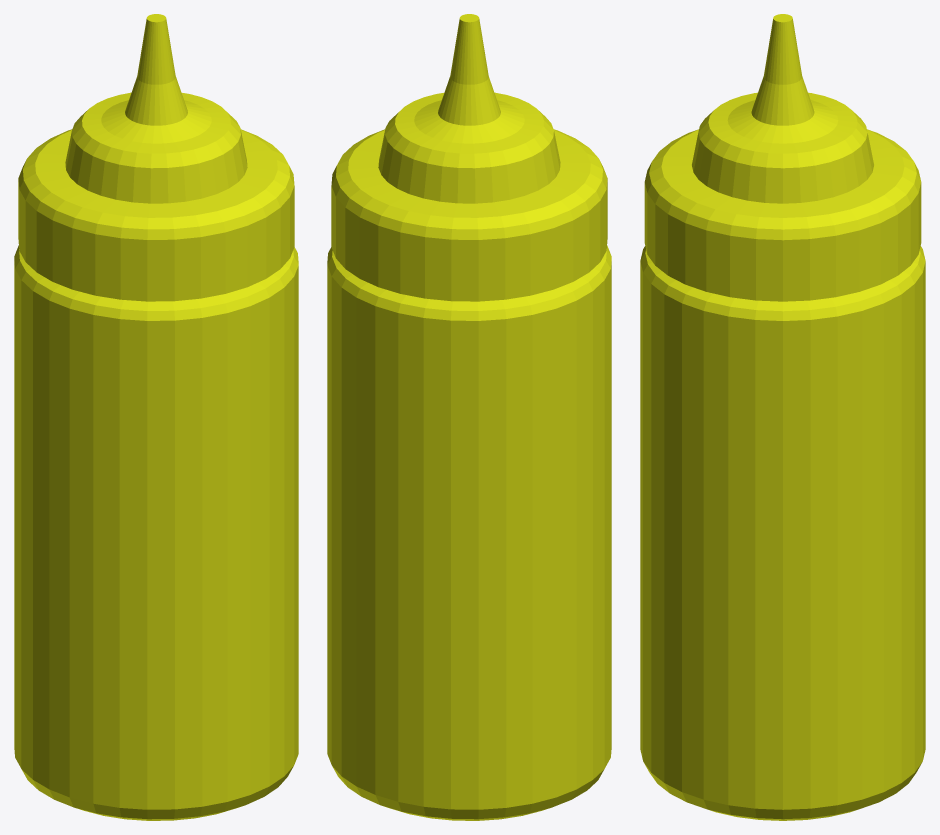
File: condimentBottleMustard.fbx
The picture shows the model from 3 angles, left to right: view 1: azimuth 30°, elevation 25°; view 2: azimuth 150°, elevation 25°; view 3: azimuth 270°, elevation 25°; orthographic projection.
Parts seen in each view (by area): view 1: Cylinder; view 2: Cylinder; view 3: Cylinder.
Boxes of the visible parts, x1,y1,x2,y2 form: Cylinder: (14, 14, 298, 820); Cylinder: (327, 14, 611, 820); Cylinder: (640, 14, 925, 820).
Size of the model in its own units: 331 by 973 by 331.
